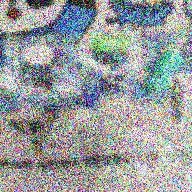러키펜정: (22, 44, 54, 68)
씨엠지세파클러캡슐: (73, 86, 99, 126)
에르도캡슐: (146, 50, 184, 94)
휴티렌정: (90, 35, 132, 54)
